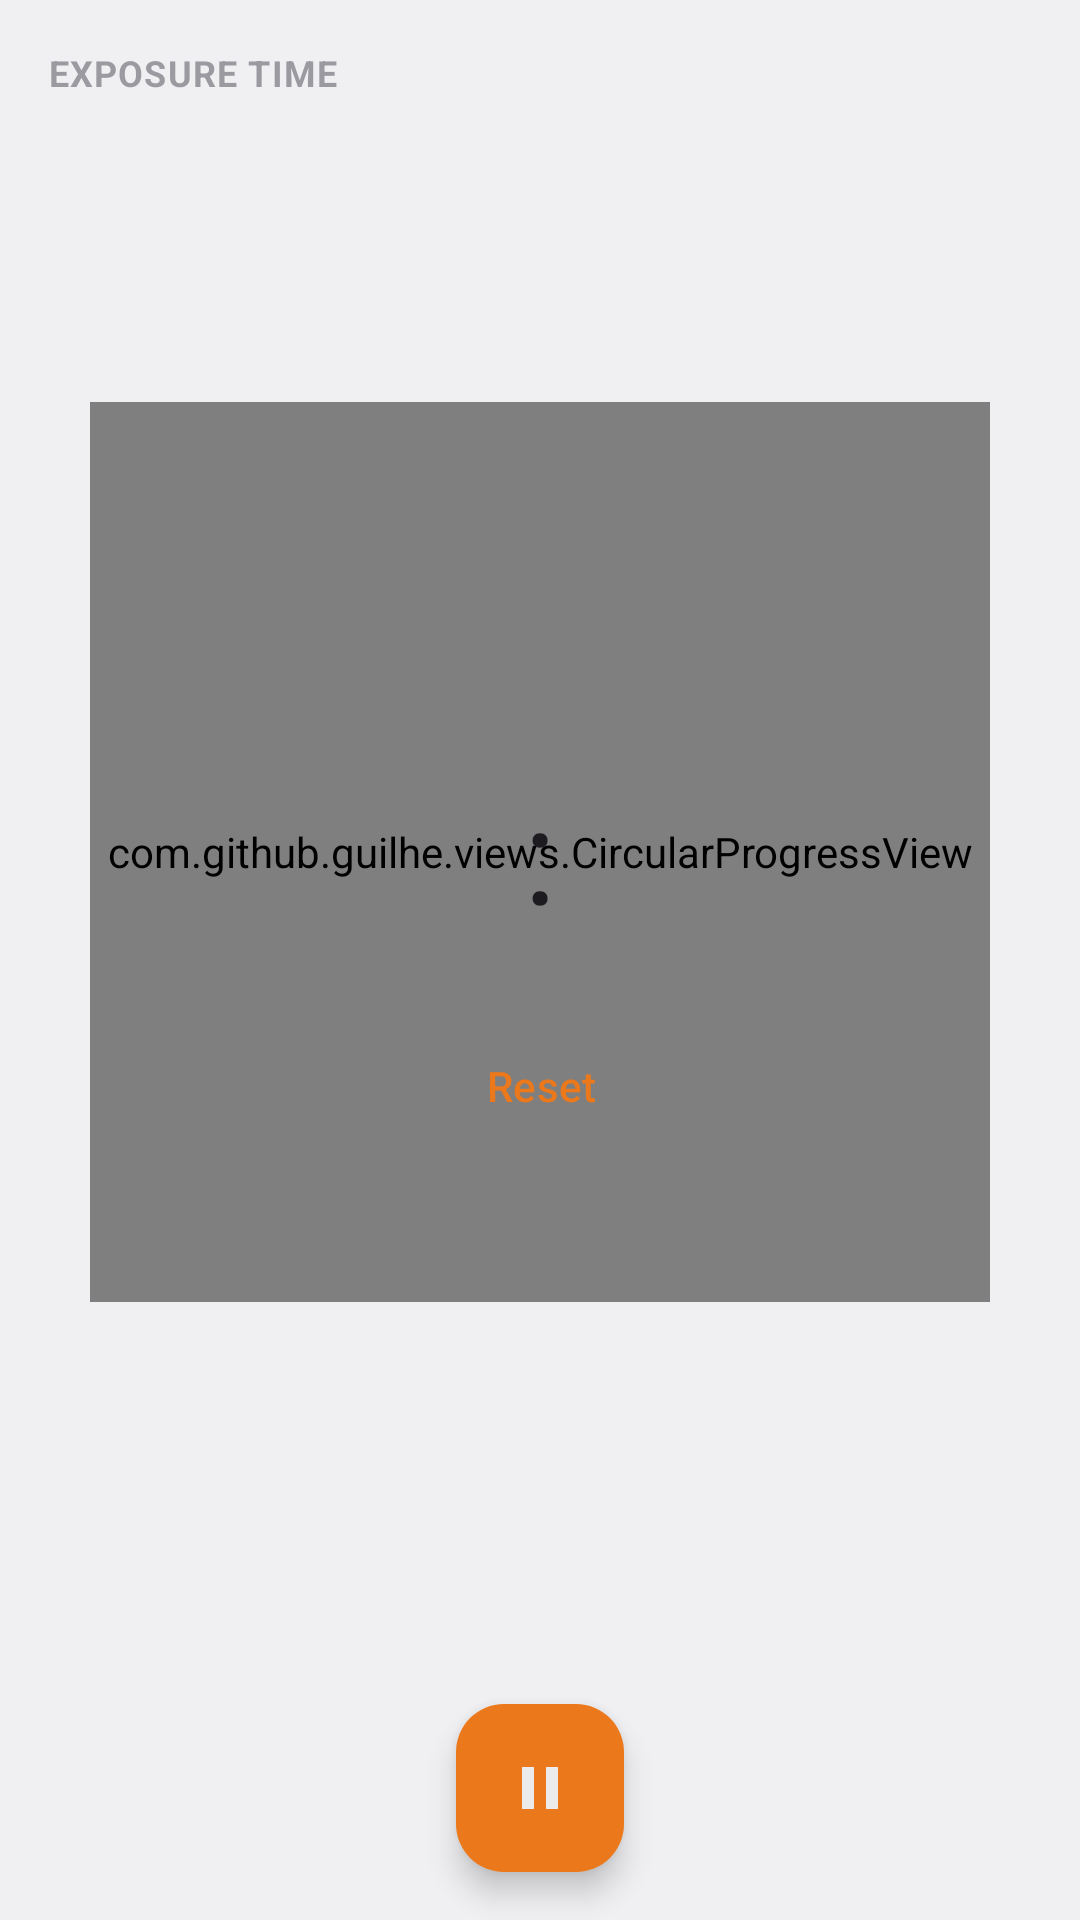

Icons on this 1080 × 1920 Android screen, each with its box as (x1, y1, x2, y2):
pause: (456, 1704, 624, 1872)
